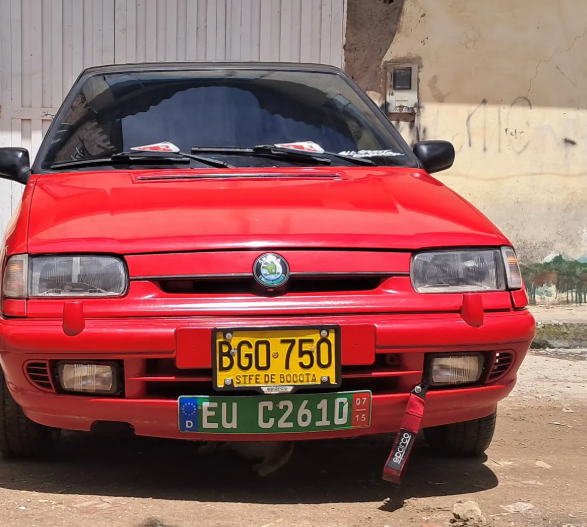placa: (210, 328, 342, 388)
